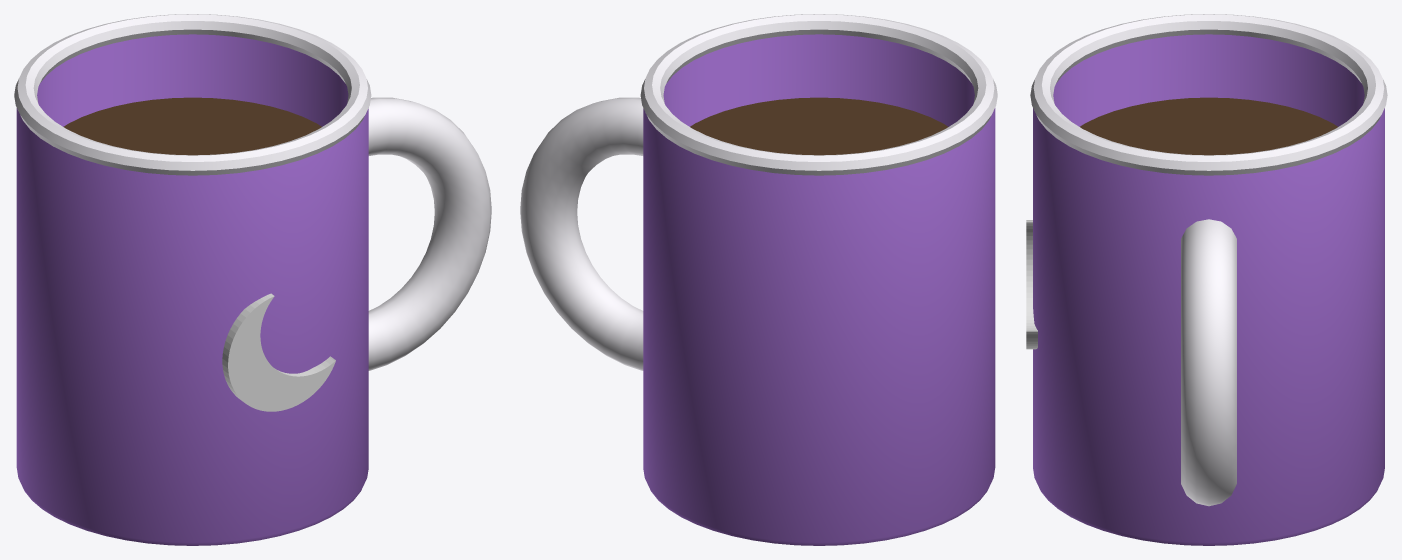
File: mug.glb
3 renders of one model, left to right at view 1: azimuth 30°, elevation 25°; view 2: azimuth 150°, elevation 25°; view 3: azimuth 270°, elevation 25°, orthographic.
Visible parts, largest first — view 1: Mug; view 2: Mug; view 3: Mug.
Boxes of the visible parts, x1=… form: Mug: x1=14, y1=14, x2=491, y2=545; Mug: x1=520, y1=14, x2=997, y2=545; Mug: x1=1026, y1=14, x2=1387, y2=545.
Size of the model in its own units: 0.1181 by 0.0976 by 0.0821.
